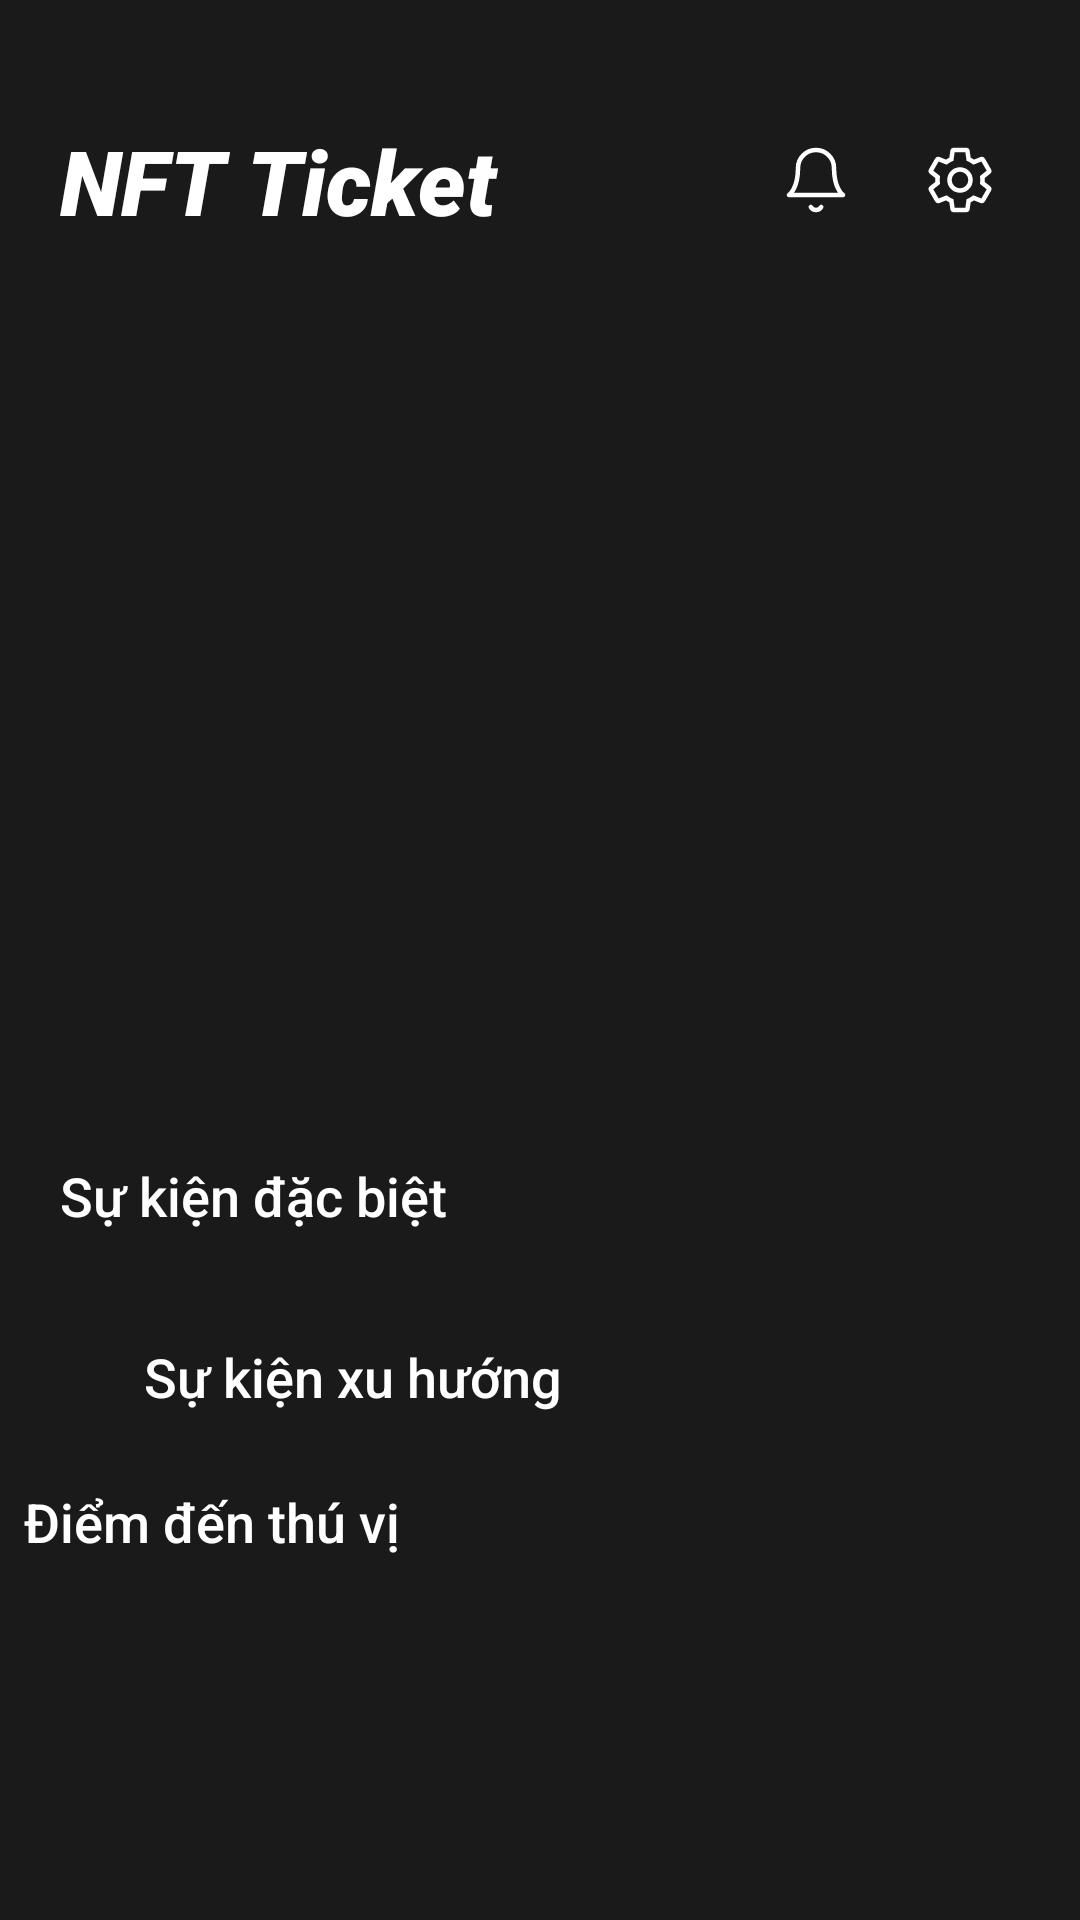

Icons on this 1080 x 1920 Android screen, each with the point to tap as [x,y]:
notifications: [816,180]
setting: [960,180]
